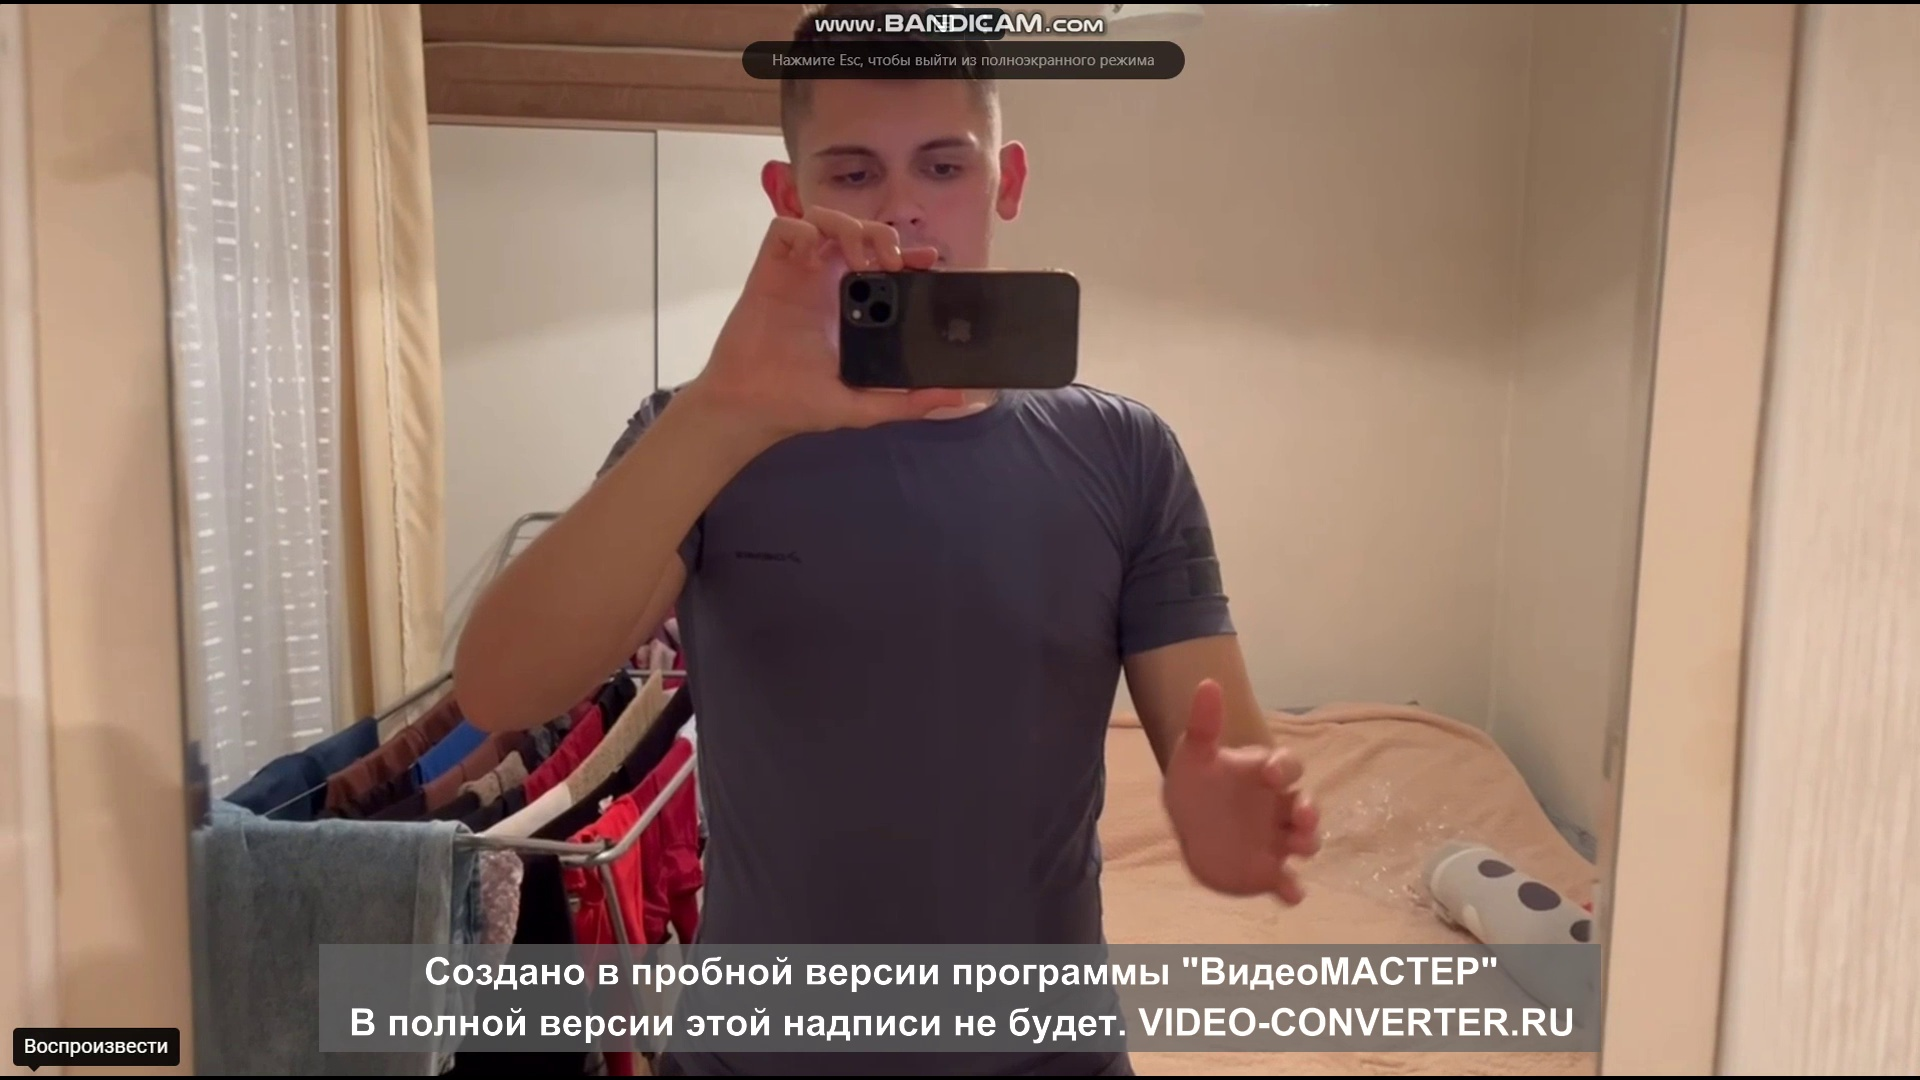Ладонь: (1168, 678, 1321, 906), (1150, 789, 1167, 790)
